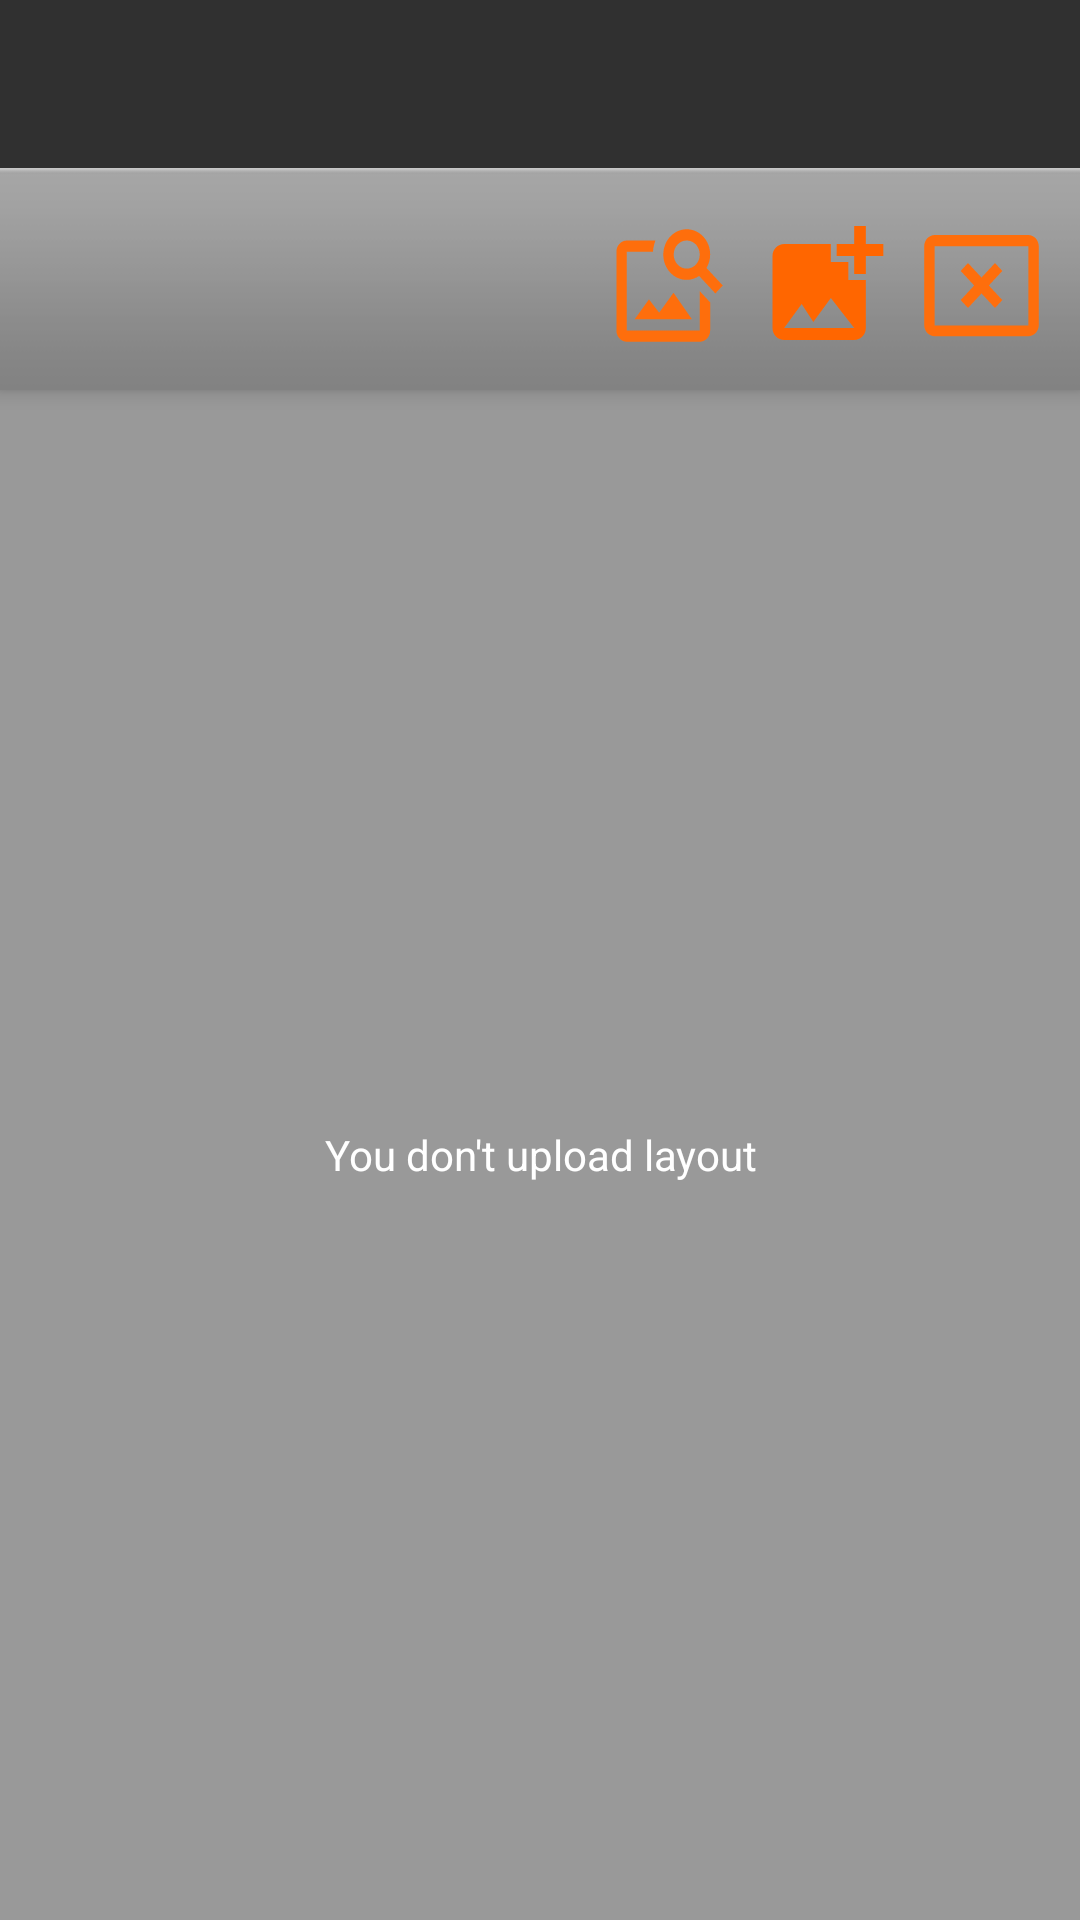

Icons on this 1080 × 1920 Android screen, each with its box as (x1, y1, x2, y2):
cancel: (919, 235, 1044, 353)
search: (606, 229, 731, 353)
